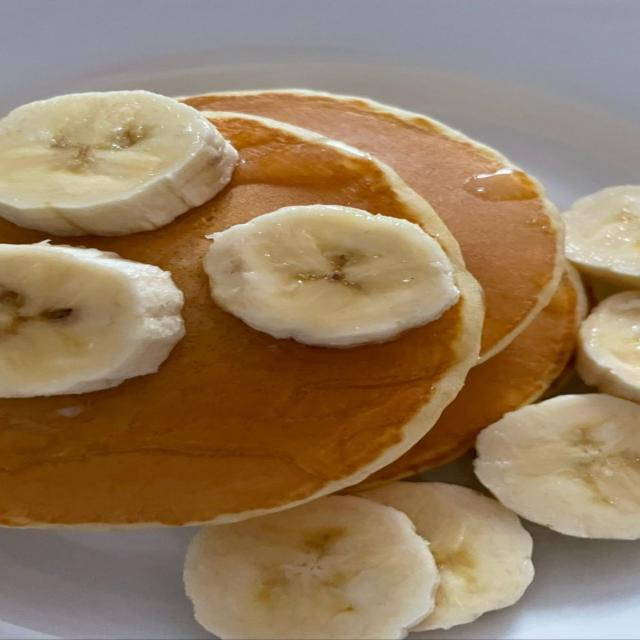banana slice: (204, 204, 459, 348), (185, 495, 438, 639), (0, 91, 237, 236), (0, 241, 184, 398), (360, 482, 534, 630), (474, 393, 639, 540), (563, 185, 639, 289), (576, 290, 639, 403)
pancake: (0, 115, 482, 527), (183, 91, 564, 361), (358, 272, 585, 490)
